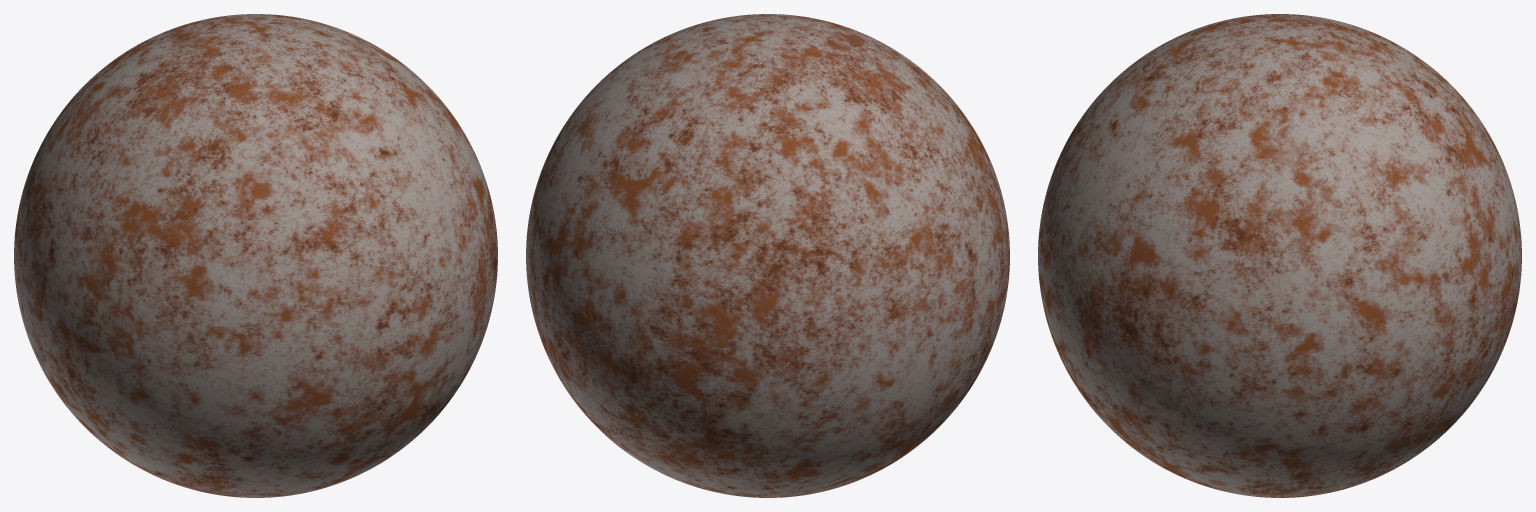
Rendered from HP_Ammunition_Basic.fbx.
The picture shows the model from 3 angles, left to right: view 1: azimuth 30°, elevation 25°; view 2: azimuth 150°, elevation 25°; view 3: azimuth 270°, elevation 25°; orthographic projection.
Parts seen in each view (by area): view 1: Sphere.002; view 2: Sphere.002; view 3: Sphere.002.
Boxes of the visible parts, box(x1,y1,x2,y2) form: Sphere.002: box(14, 14, 497, 497); Sphere.002: box(526, 14, 1009, 497); Sphere.002: box(1038, 14, 1521, 497).
Size of the model in its own units: 200 by 200 by 200.
Materials: 1 (1 with a texture image).
